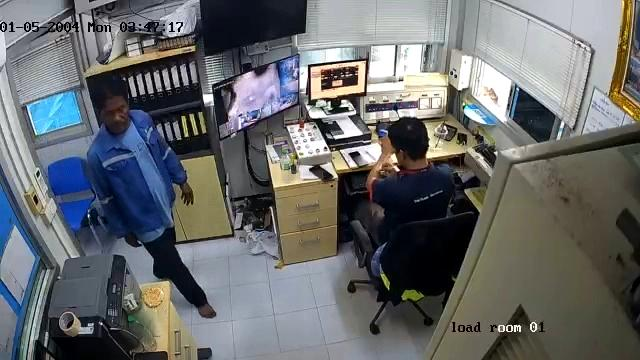Head: (389, 116, 430, 168), (94, 83, 136, 133)
People: (87, 81, 220, 323), (368, 117, 459, 223)
Phone: (308, 165, 334, 182), (349, 151, 369, 168)
